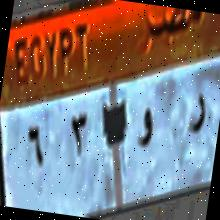6: (19, 122, 51, 179)
raa: (182, 84, 212, 148)
waw: (66, 104, 92, 167), (132, 101, 160, 154)
